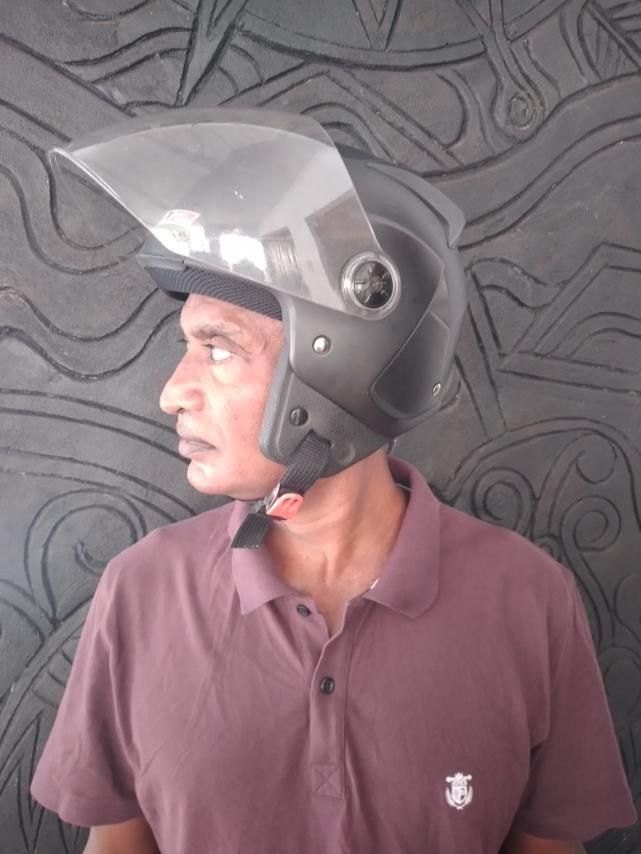helmet: (46, 104, 468, 476)
